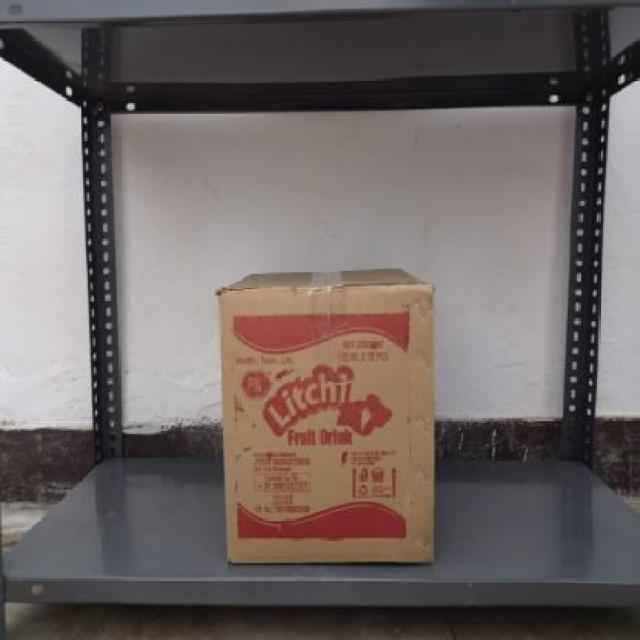box: (220, 288, 434, 566)
